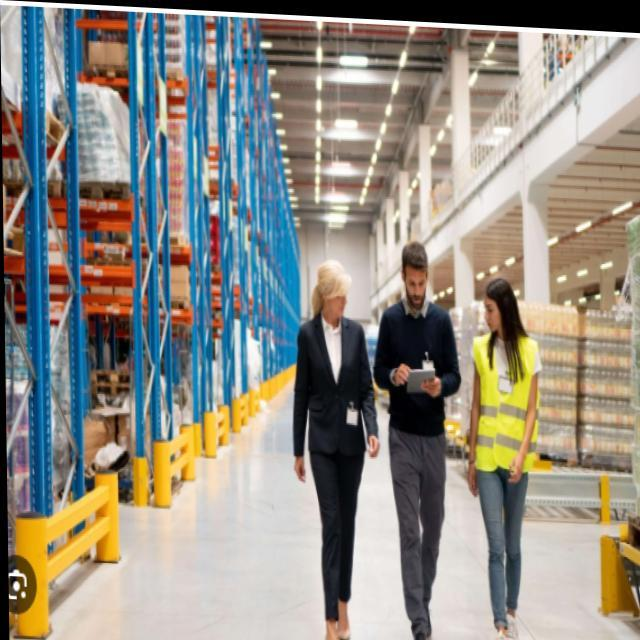vest: (469, 327, 544, 488)
